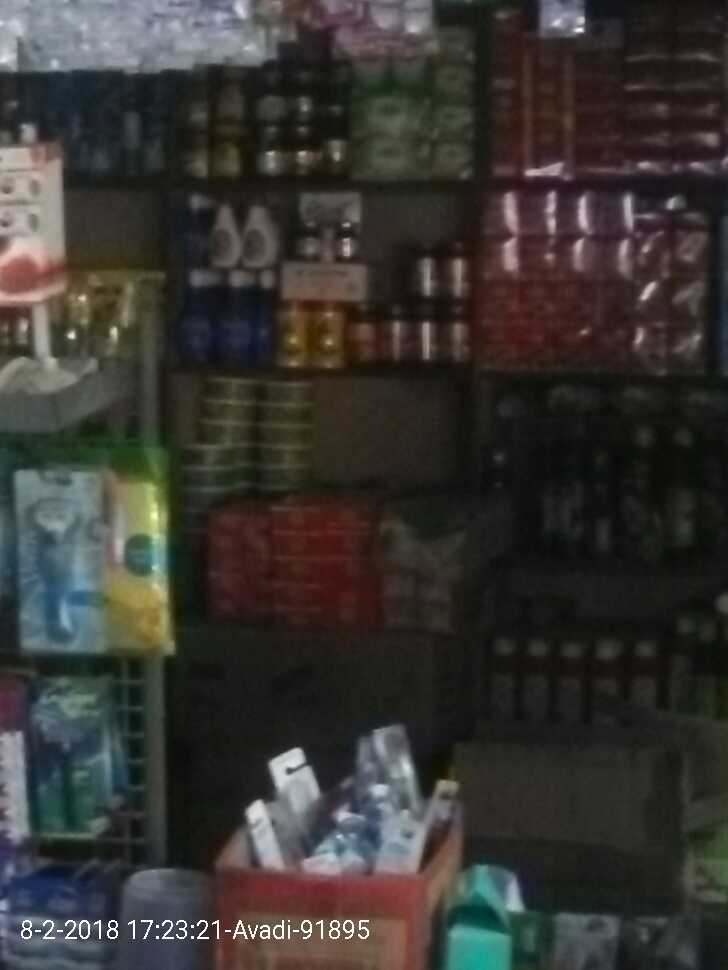venus: (17, 468, 101, 668)
